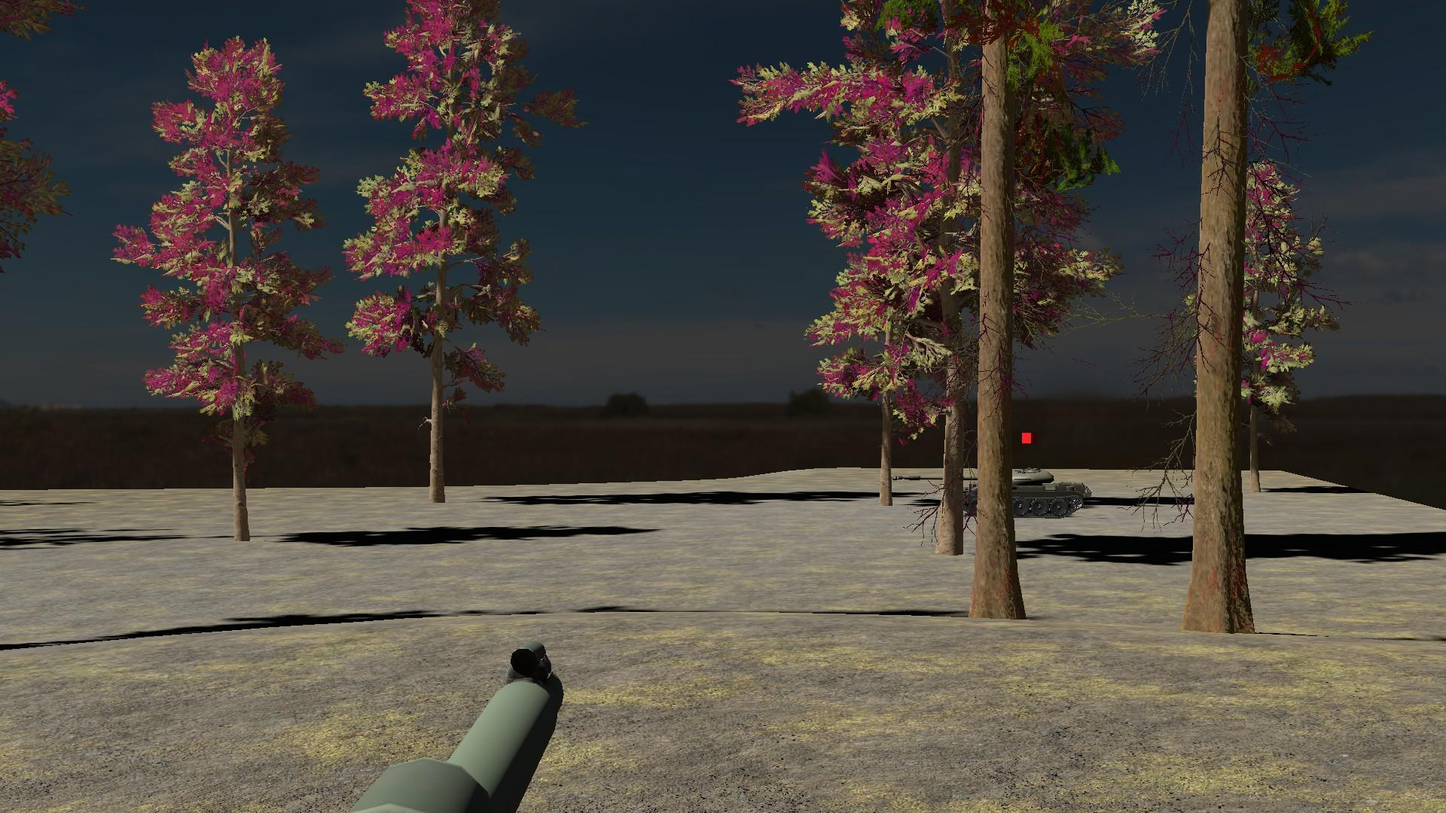Tank: (886, 456, 1095, 526)
